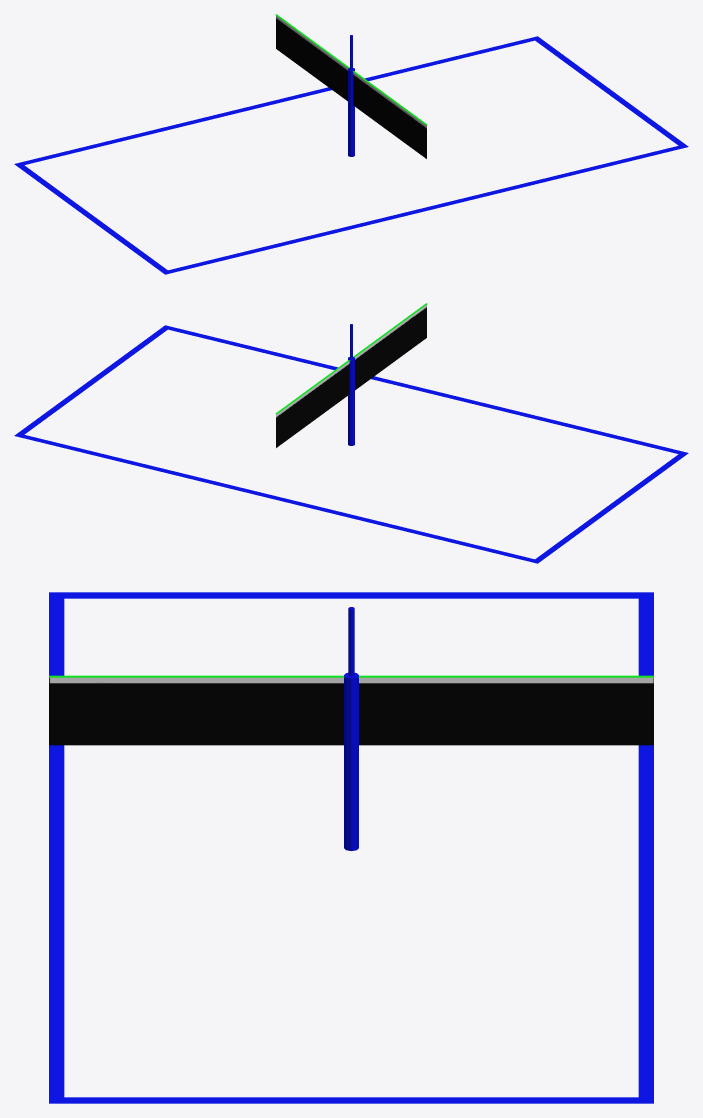
Rendered from playground16x8.glb.
3 views of the same model, one above another, from view 1: azimuth 30°, elevation 25°; view 2: azimuth 150°, elevation 25°; view 3: azimuth 270°, elevation 25° (orthographic). The views are drawn at different scales.
Visible parts, largest first — view 1: border-root, net-root, column-root; view 2: border-root, net-root, column-root; view 3: net-root, border-root, column-root, netup-root.
Part boxes in pixels (bbox=[...]): border-root: bbox=[14, 36, 688, 274]; net-root: bbox=[276, 16, 426, 158]; column-root: bbox=[348, 35, 354, 156]; border-root: bbox=[14, 325, 688, 563]; net-root: bbox=[276, 305, 426, 447]; column-root: bbox=[348, 324, 354, 445]; net-root: bbox=[49, 677, 653, 745]; border-root: bbox=[49, 592, 653, 1103]; column-root: bbox=[344, 607, 358, 850]; netup-root: bbox=[49, 675, 653, 677].
Size of the model in its own units: 16 by 3.5 by 8.
4 materials, 4 textured.
